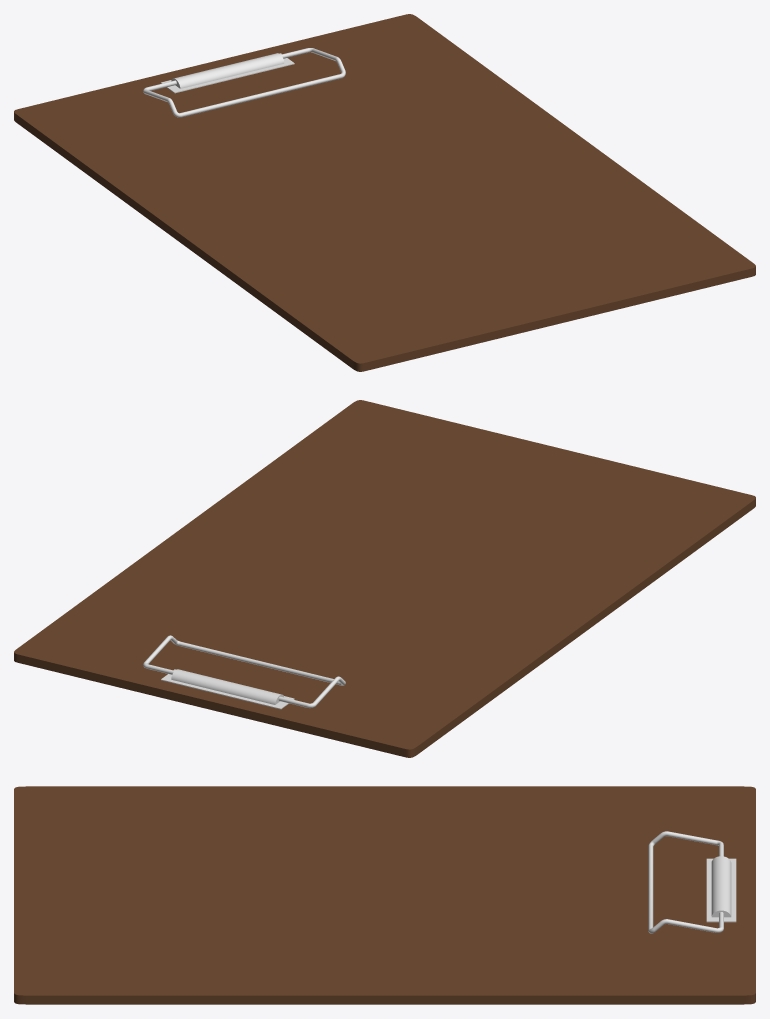
Rendered from clipboard.fbx.
The picture shows the model from 3 angles, top to bottom: view 1: azimuth 30°, elevation 25°; view 2: azimuth 150°, elevation 25°; view 3: azimuth 270°, elevation 25°; orthographic projection. The views are drawn at different scales.
Parts seen in each view (by area): view 1: board, clip base, clip; view 2: board, clip base, clip; view 3: board, clip base, clip.
Part boxes in pixels (x1,y1,x2,y2): board: (14,14,755,371); clip base: (161,53,294,93); clip: (143,48,345,117); board: (14,400,755,757); clip base: (161,669,294,709); clip: (143,635,345,707); board: (14,786,755,1004); clip base: (706,856,736,922); clip: (648,831,723,933).
Size of the model in its own units: 500 by 27.41 by 750.
